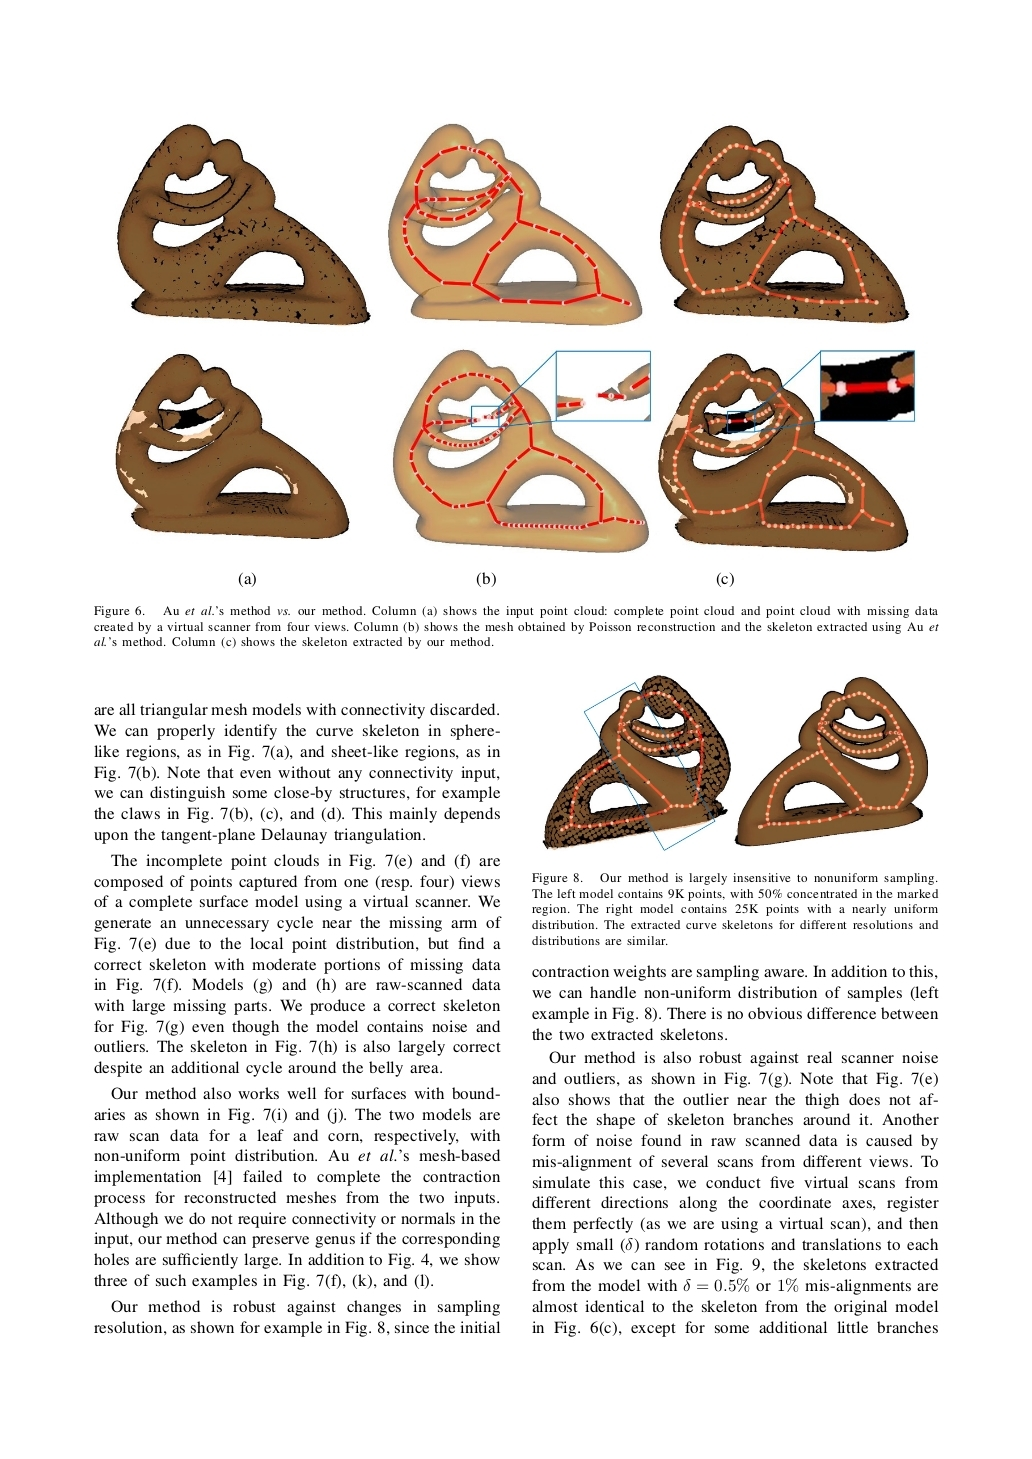figure: (392, 349, 650, 551), (388, 123, 642, 325), (658, 351, 914, 551), (117, 124, 370, 325), (660, 125, 909, 323), (115, 356, 348, 538), (542, 675, 730, 850), (734, 676, 927, 846)
